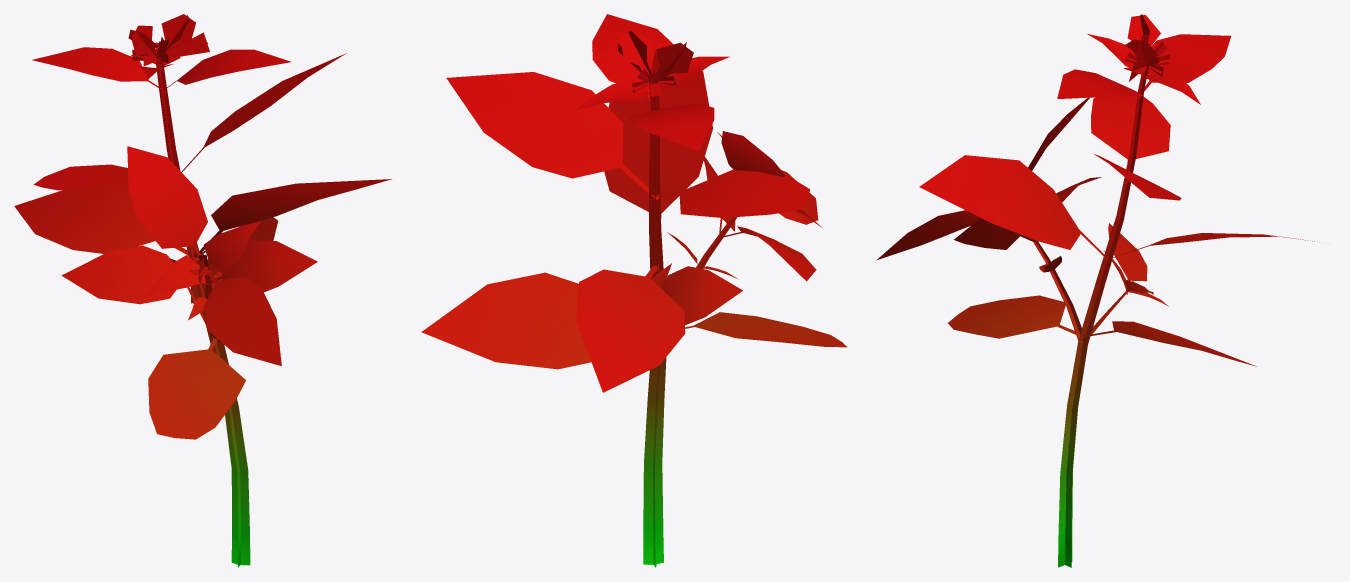
Rendered from Common Hemp Nettle_LOD4_Var2_xh1kdfbqx.fbx.
3 renders of one model, left to right at view 1: azimuth 30°, elevation 25°; view 2: azimuth 150°, elevation 25°; view 3: azimuth 270°, elevation 25°, orthographic. The views are drawn at different scales.
Visible parts, largest first — view 1: _xt7r_Var2_LOD4; view 2: _xt7r_Var2_LOD4; view 3: _xt7r_Var2_LOD4.
Part boxes in pixels (x1=…): _xt7r_Var2_LOD4: x1=14, y1=14, x2=391, y2=567; _xt7r_Var2_LOD4: x1=421, y1=14, x2=847, y2=567; _xt7r_Var2_LOD4: x1=876, y1=14, x2=1319, y2=567.
Bounding box in the file's own units: 33.83 × 52.95 × 42.4.
